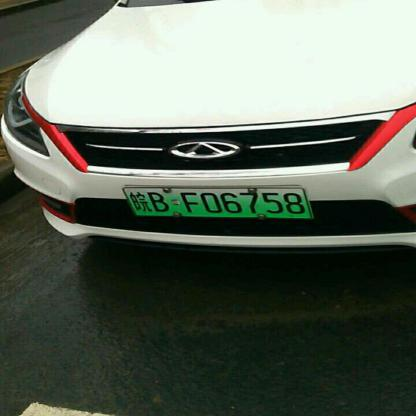lp: (124, 187, 312, 218)
